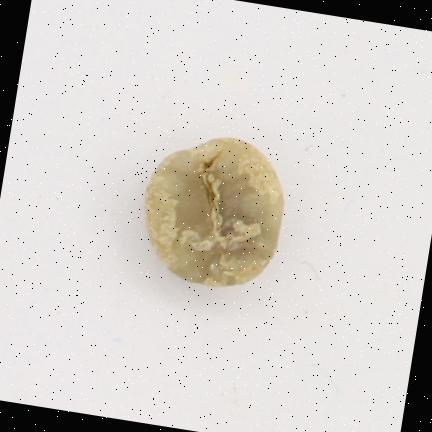immature: (145, 138, 284, 286)
